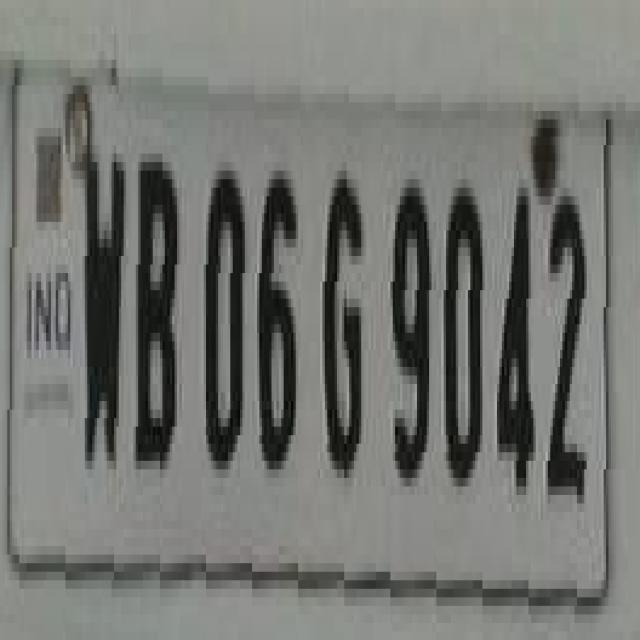license_plate: (5, 17, 606, 589)
